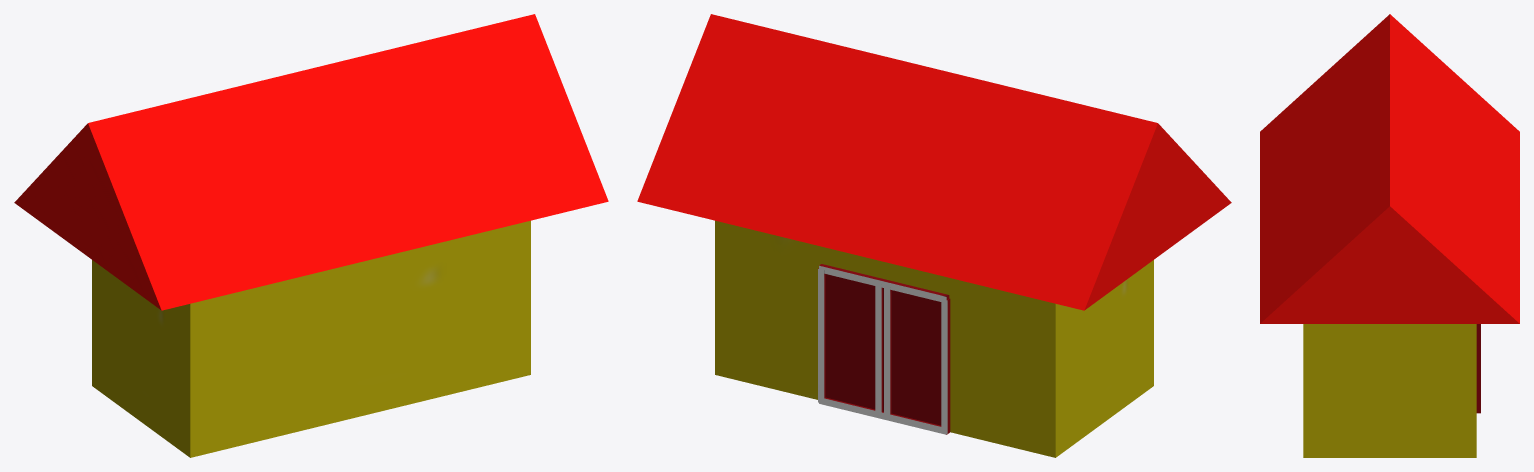
The model's file is building3.obj.
The picture shows the model from 3 angles, left to right: view 1: azimuth 30°, elevation 25°; view 2: azimuth 150°, elevation 25°; view 3: azimuth 270°, elevation 25°; orthographic projection. The views are drawn at different scales.
Visible parts, largest first — view 1: Cube.002_Cube; view 2: Cube.002_Cube; view 3: Cube.002_Cube.
Boxes of the visible parts, bbox=[...] form: Cube.002_Cube: bbox=[14, 14, 608, 457]; Cube.002_Cube: bbox=[637, 14, 1231, 457]; Cube.002_Cube: bbox=[1260, 14, 1519, 457].
Bounding box in the file's own units: 10.5 × 7.03 × 6.
1 material, 1 textured.
